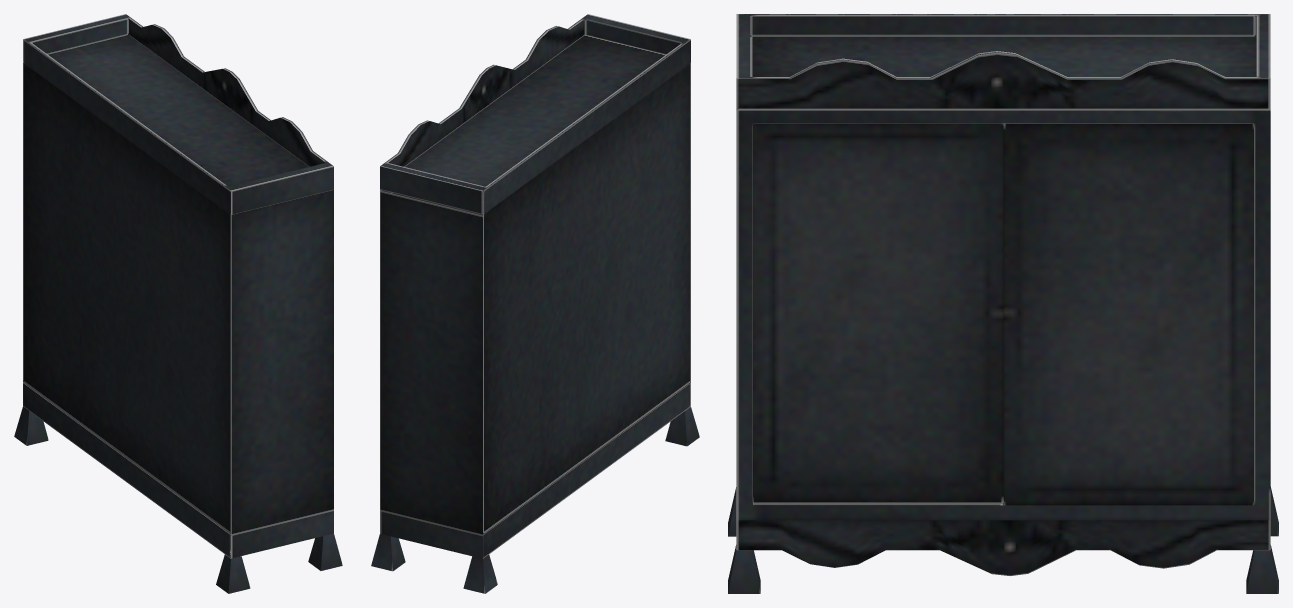
File: Wooden Wardrobe.fbx
The picture shows the model from 3 angles, left to right: view 1: azimuth 30°, elevation 25°; view 2: azimuth 150°, elevation 25°; view 3: azimuth 270°, elevation 25°; orthographic projection. The views are drawn at different scales.
Parts seen in each view (by area): view 1: Wooden Wardrobe; view 2: Wooden Wardrobe; view 3: Wooden Wardrobe, Door-1, Door-2.
Part boxes in pixels (x1,y1,x2,y2): Wooden Wardrobe: [14, 14, 342, 593]; Wooden Wardrobe: [371, 14, 699, 593]; Wooden Wardrobe: [728, 14, 1278, 593]; Door-1: [1003, 123, 1253, 505]; Door-2: [753, 123, 1003, 505].
Size of the model in its own units: 222 by 778 by 721.
